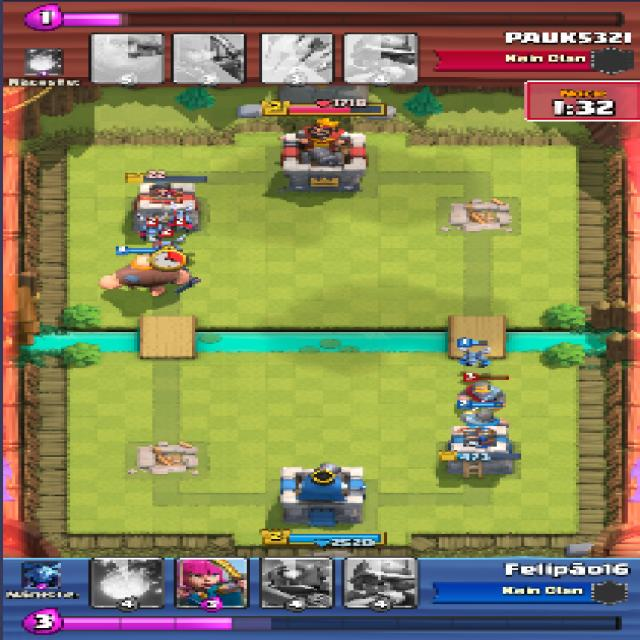Enemy-Knight: (454, 380, 507, 406)
Enemy-Minion: (167, 211, 194, 231), (137, 219, 163, 237), (151, 238, 183, 252)
Player-Giant: (98, 256, 188, 294)
Player-Knight: (454, 407, 510, 428)
Player-Minion: (456, 350, 488, 368)
